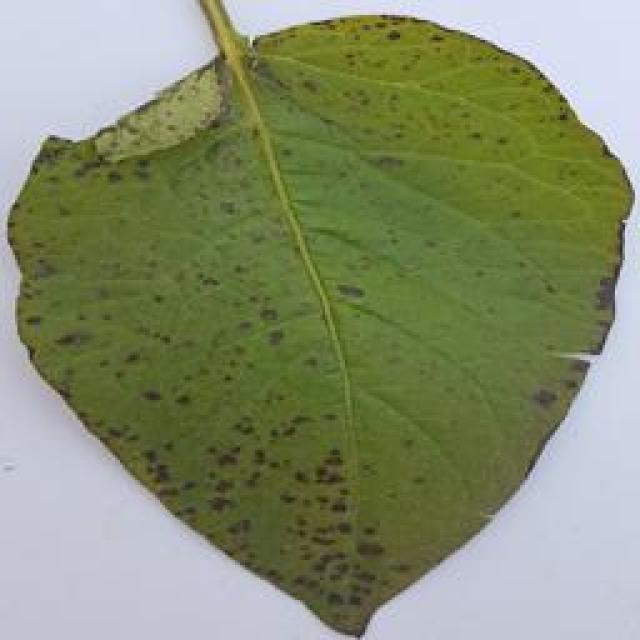Potato_Early_Blight: (3, 6, 633, 630)
